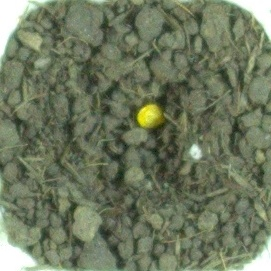chilli seed: (135, 102, 169, 131)
